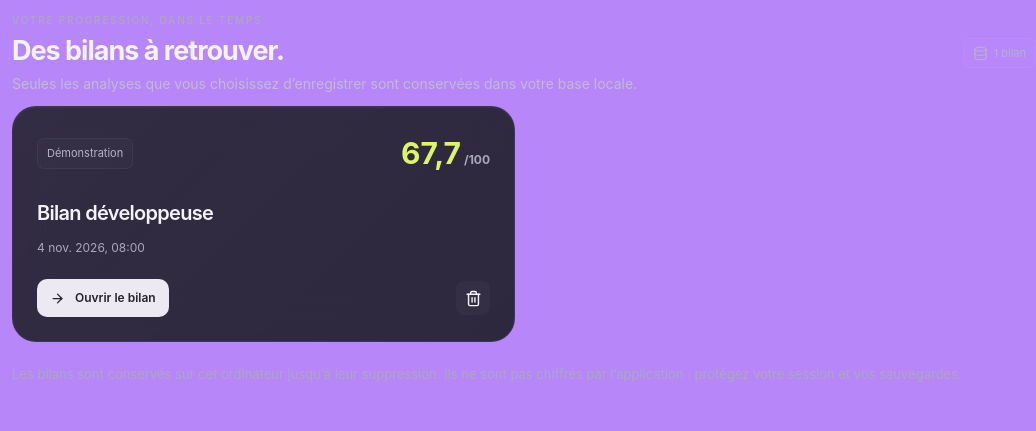
Scenario: Explicit report persistence › requires confirmation before deleting, then refreshes the list
The width and height of the screenshot is (1036, 431).
Step 1. Click the button named "Supprimer Bilan développeuse" → (473, 298), box [456,281,490,315]
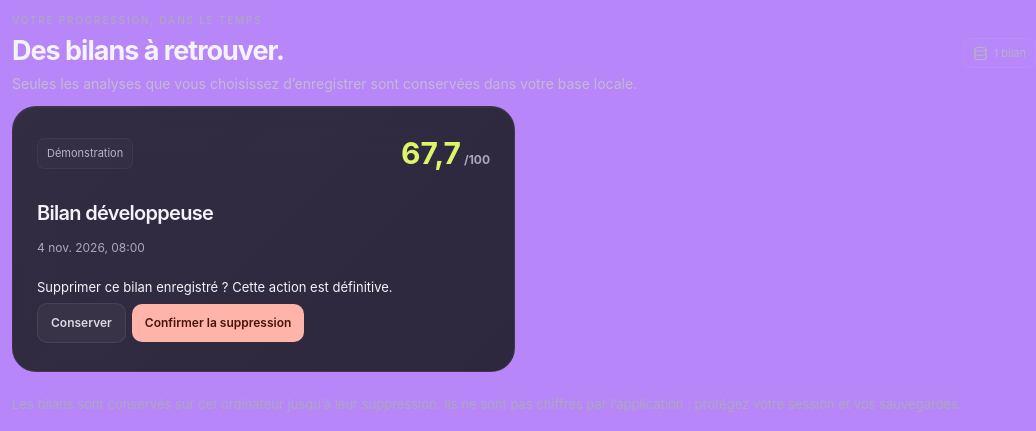
Step 2. Click the button "Confirmer la suppression" → (218, 323), box [132,304,304,342]
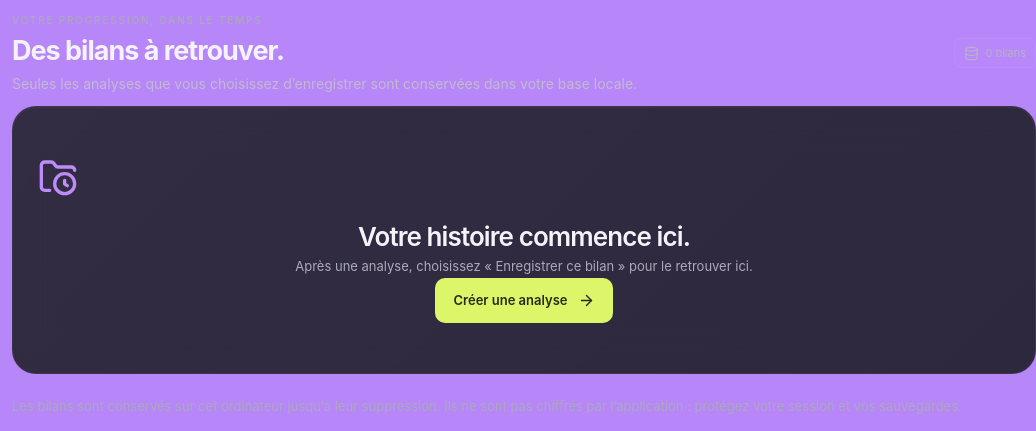
Expected: the heading "Votre histoire commence ici." is shown, [358,221,690,252]
